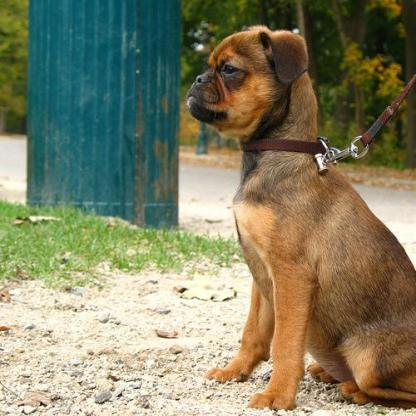Brabancon_griffon: (183, 20, 414, 412)
